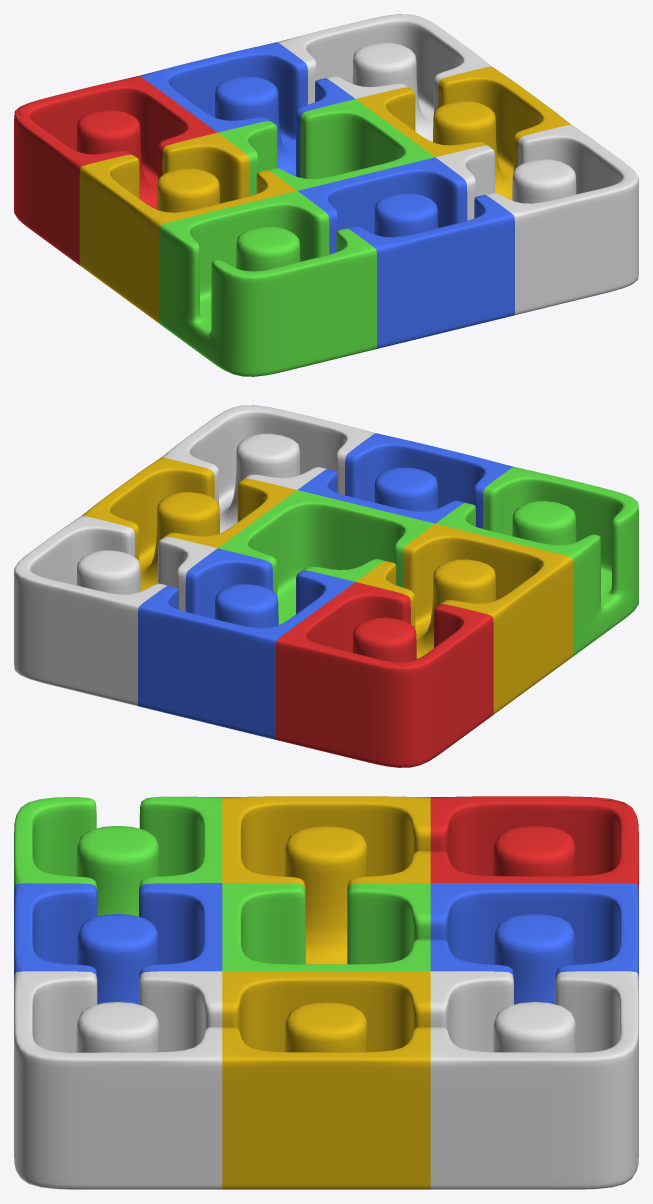
Rendered from block_labyrinth.fbx.
3 views of the same model, one above another, from view 1: azimuth 30°, elevation 25°; view 2: azimuth 150°, elevation 25°; view 3: azimuth 270°, elevation 25° (orthographic). The views are drawn at different scales.
Parts seen in each view (by area): view 1: Outside; view 2: Outside; view 3: Outside.
Part boxes in pixels (box(x1,y1,x2,y2)): Outside: box(14, 14, 638, 376); Outside: box(14, 405, 638, 767); Outside: box(14, 796, 638, 1189).
Bounding box in the file's own units: 5.6 × 1.32 × 5.6.
